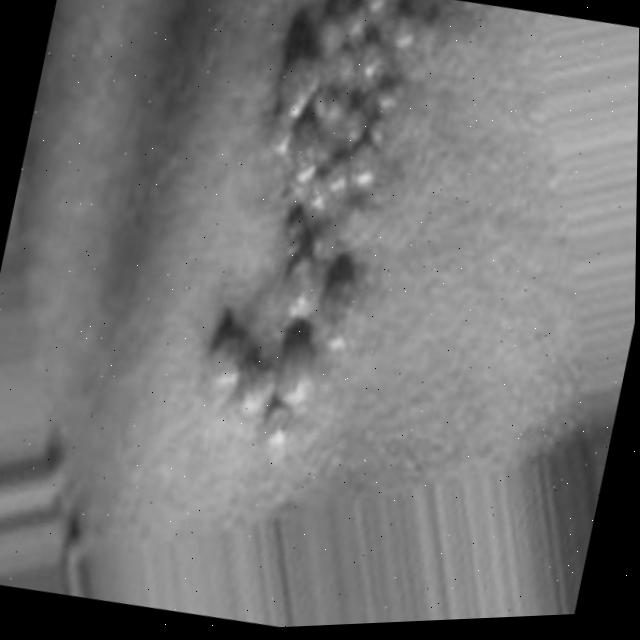Shingles: (183, 0, 468, 465)
